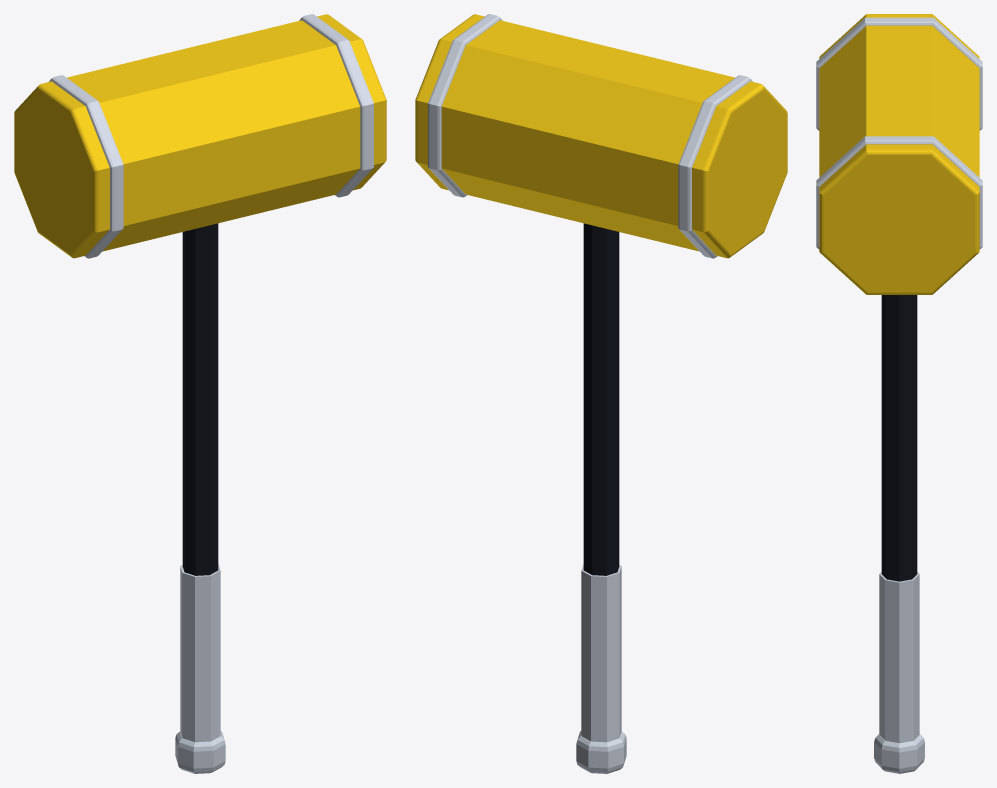
File: hammer_aodaru.fbx
3 views of the same model, side by side, from view 1: azimuth 30°, elevation 25°; view 2: azimuth 150°, elevation 25°; view 3: azimuth 270°, elevation 25° (orthographic). The views are drawn at different scales.
Parts seen in each view (by area): view 1: aodaru_hammer; view 2: aodaru_hammer; view 3: aodaru_hammer.
Part boxes in pixels (x1,y1,x2,y2): aodaru_hammer: [14, 14, 386, 773]; aodaru_hammer: [415, 14, 787, 773]; aodaru_hammer: [816, 14, 982, 773].
Bounding box in the file's own units: 1.1 × 2.54 × 0.558.
